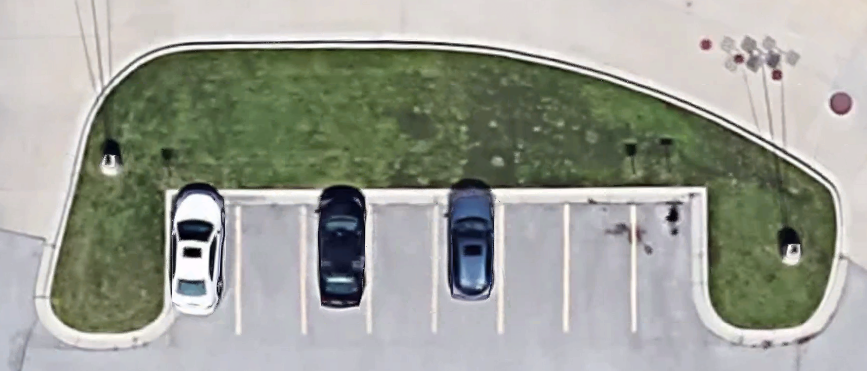Occupied: (303, 199, 369, 334), (173, 198, 238, 334), (435, 199, 500, 335)
Vacant: (567, 199, 634, 332), (369, 199, 435, 334), (633, 199, 699, 333), (502, 199, 567, 333), (239, 199, 303, 334)
